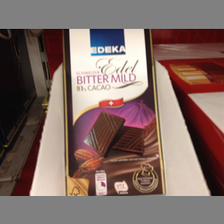chocolate: (63, 29, 168, 197)
